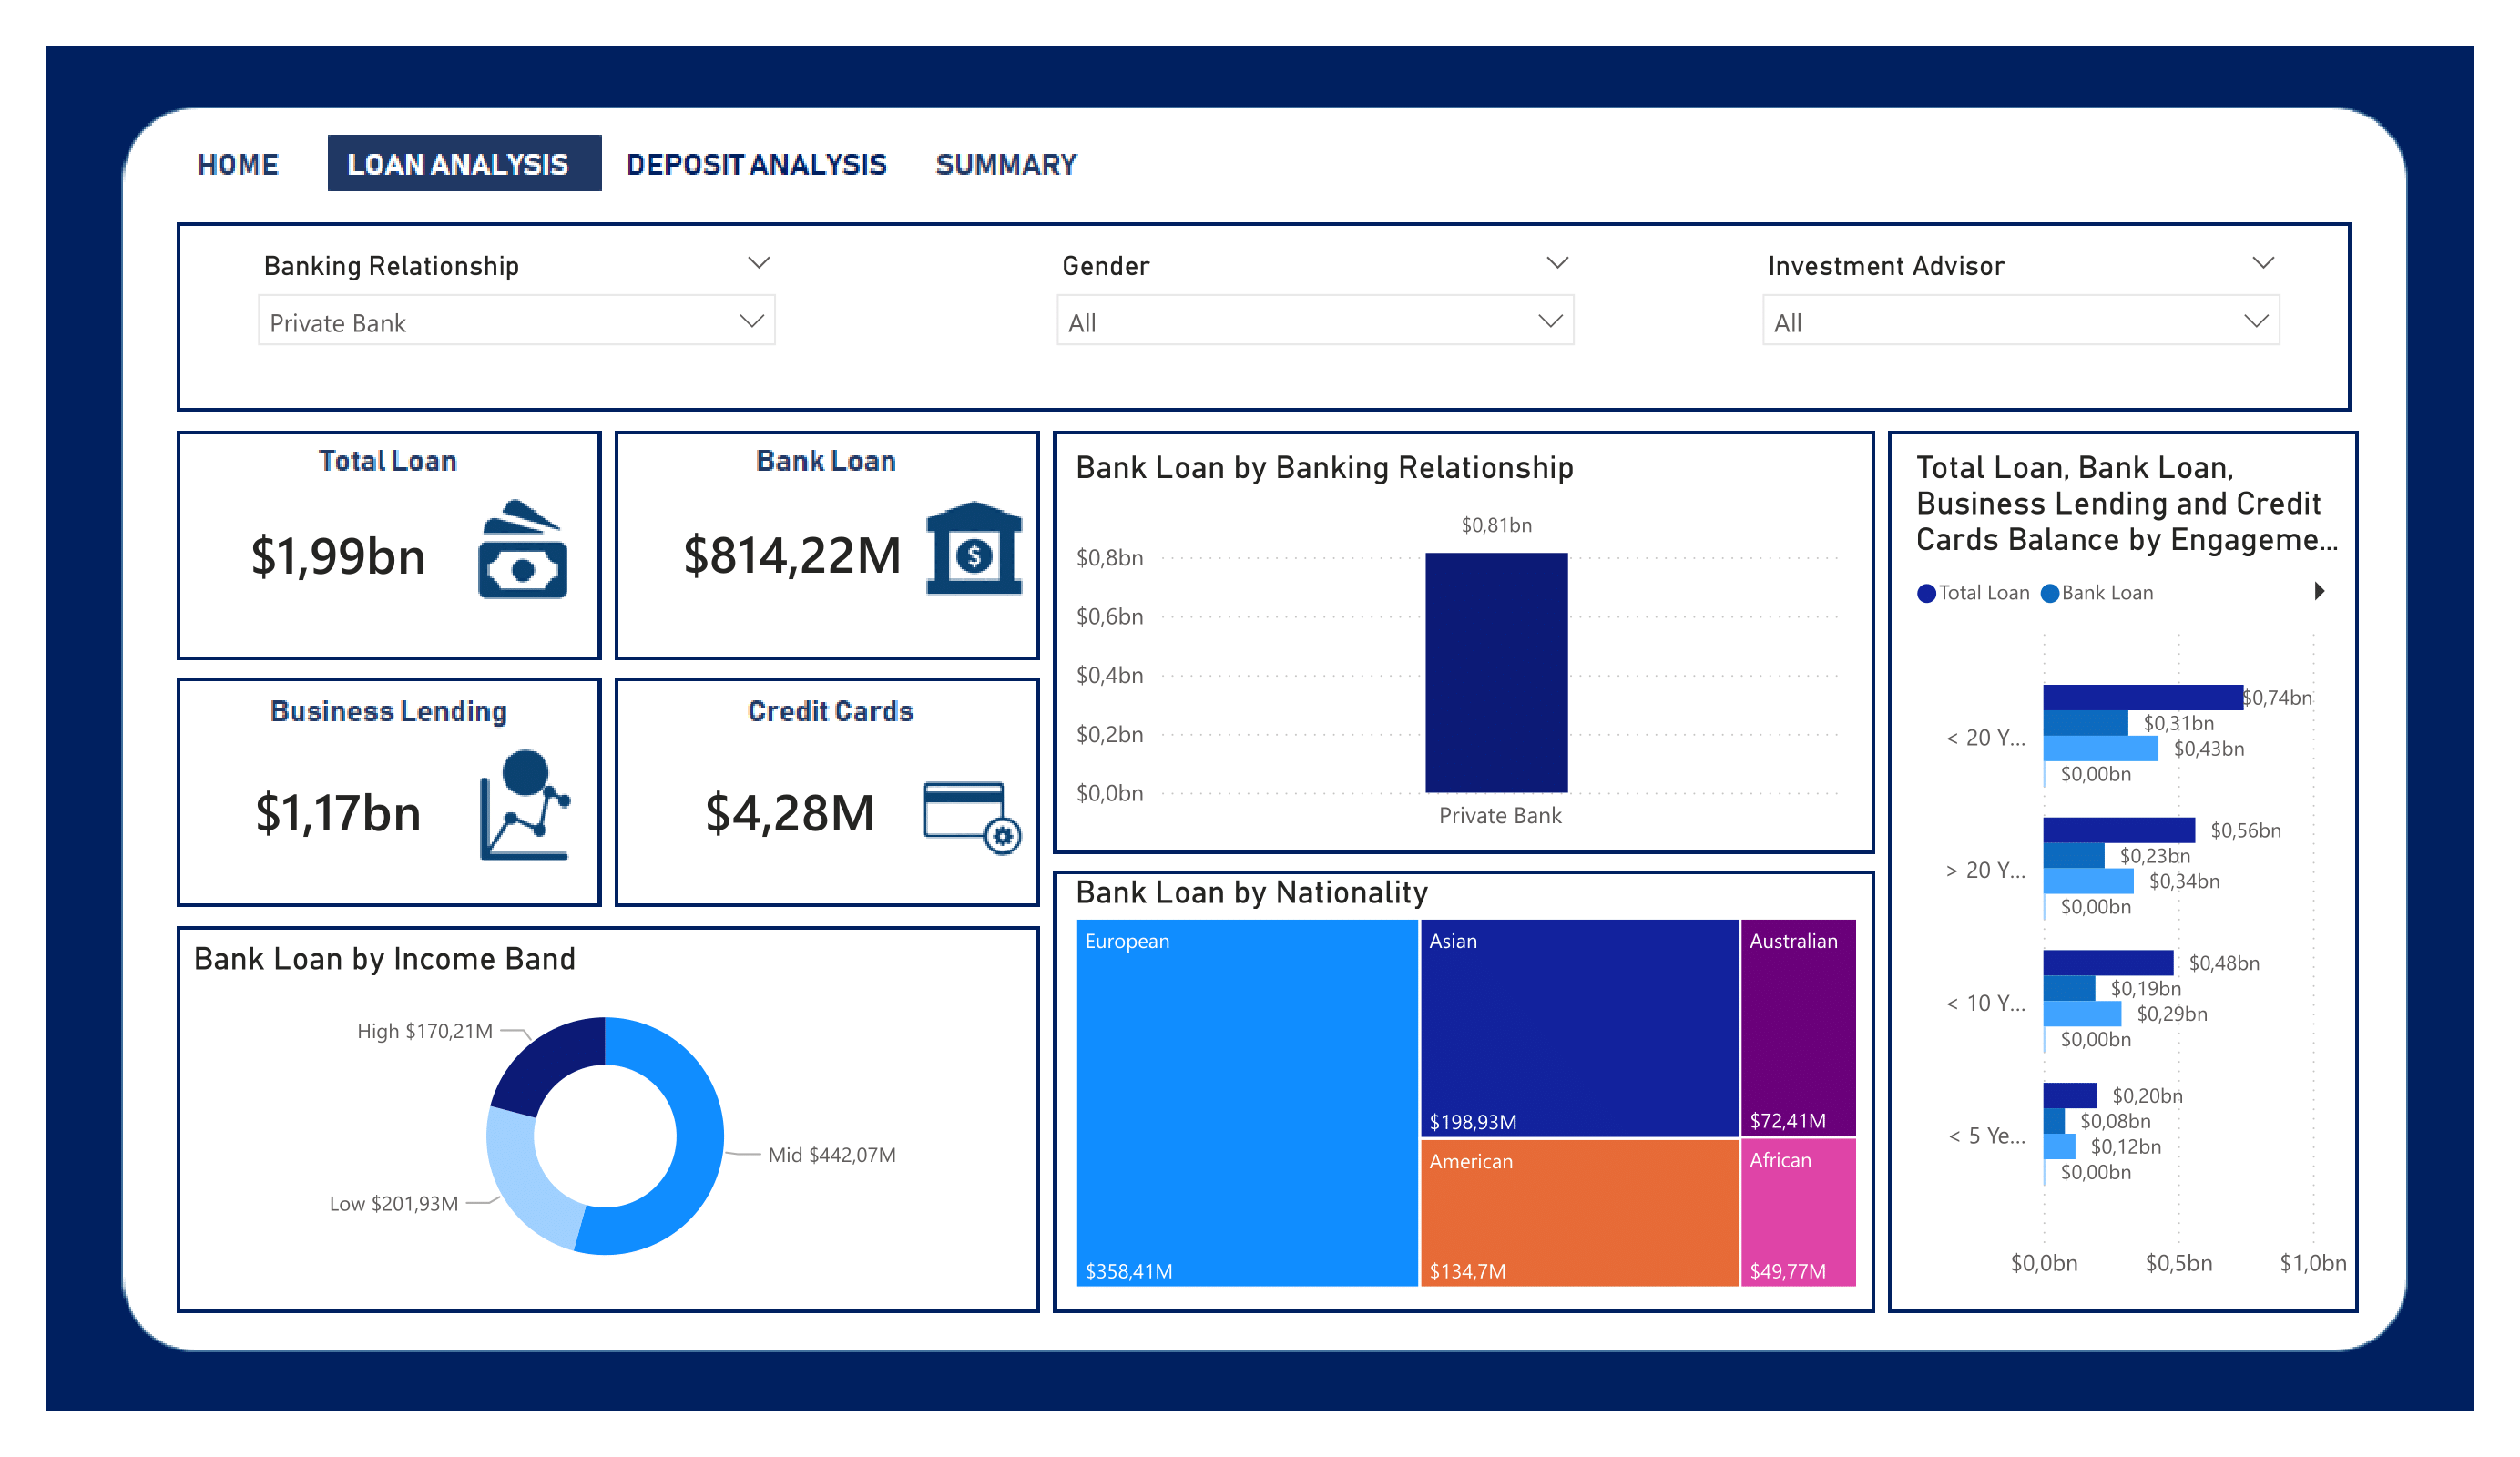

The page's visual inventory and layout, read from the dashboard file:
{"tool":"powerbi","page":{"name":"Loan Analysis","canvas":[1280,720],"ordinal":1},"visuals":[{"type":"card","fields":{"Values":["DAX Measures.Total Loan"]},"box":[72.7,224,161.8,90.3],"z":0},{"type":"card","fields":{"Values":["DAX Measures.Bank Loan"]},"box":[307.2,224,172.4,89.1],"z":1000},{"type":"card","fields":{"Values":["DAX Measures.Credit Cards"]},"box":[307.2,360,171.2,89.1],"z":2000},{"type":"card","fields":{"Values":["DAX Measures.Business Lending"]},"box":[72.7,360,161.8,89.1],"z":3000},{"type":"slicer","fields":{"Values":["Banking Relationship.Banking Relationship"]},"box":[102.3,103.4,292.9,75.7],"z":4000},{"type":"slicer","fields":{"Values":["Gender.Gender"]},"box":[522.7,103.4,292.9,75.7],"z":5000},{"type":"slicer","fields":{"Values":["Investment Advisor.Investment Advisor"]},"box":[895,103.4,292.9,75.7],"z":6000},{"type":"donutChart","fields":{"Category":["Clients - Banking.Income Band"],"Y":["DAX Measures.Bank Loan"]},"box":[72.7,471.4,444.4,188.8],"z":7000},{"type":"clusteredBarChart","fields":{"Category":["Clients - Banking.Engagement Timeframe"],"Y":["DAX Measures.Total Loan","DAX Measures.Bank Loan","DAX Measures.Business Lending","DAX Measures.Credit Cards"]},"box":[981.5,212.2,236.9,447.9],"z":8000},{"type":"treemap","fields":{"Group":["Clients - Banking.Nationality"],"Values":["DAX Measures.Bank Loan"]},"box":[538.2,436.2,422.1,224],"z":9000},{"type":"lineClusteredColumnComboChart","fields":{"Y":["DAX Measures.Bank Loan"],"Category":["Banking Relationship.Banking Relationship"]},"box":[538.2,212.2,411.6,212.2],"z":10000},{"type":"actionButton","box":[72.8,44.2,58.5,31],"z":12000},{"type":"actionButton","box":[306.9,44.7,119.4,31],"z":13000},{"type":"actionButton","box":[471.6,44.2,83.6,31],"z":14000}]}

Visuals, with their boxes in screenshot pixels (x1, y1, x2, y2):
card - DAX Measures.Total Loan: [183,471,491,642]
card - DAX Measures.Bank Loan: [628,471,955,639]
card - DAX Measures.Credit Cards: [628,728,954,898]
card - DAX Measures.Business Lending: [183,728,491,898]
slicer - Banking Relationship.Banking Relationship: [240,241,795,385]
slicer - Gender.Gender: [1037,241,1593,385]
slicer - Investment Advisor.Investment Advisor: [1744,241,2300,385]
donutChart - Clients - Banking.Income Band x DAX Measures.Bank Loan: [183,940,1026,1298]
clusteredBarChart - Clients - Banking.Engagement Timeframe x DAX Measures.Total Loan: [1908,448,2358,1298]
treemap - Clients - Banking.Nationality x DAX Measures.Bank Loan: [1066,873,1868,1298]
lineClusteredColumnComboChart - DAX Measures.Bank Loan x Banking Relationship.Banking Relationship: [1066,448,1848,851]
actionButton: [184,129,295,188]
actionButton: [627,130,854,189]
actionButton: [941,129,1099,188]
